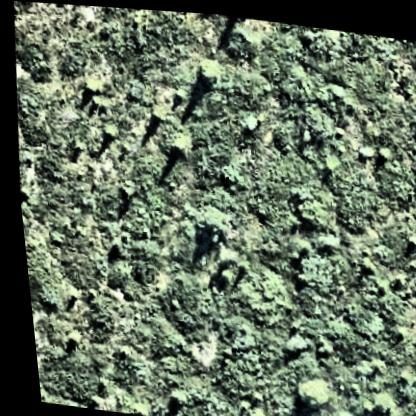tree-top: (285, 373, 321, 408), (191, 217, 223, 245), (278, 327, 306, 356), (192, 61, 220, 87), (147, 100, 169, 126), (211, 244, 238, 265), (165, 135, 189, 158), (364, 392, 385, 414), (79, 77, 98, 99), (97, 124, 117, 142), (410, 376, 416, 416)
